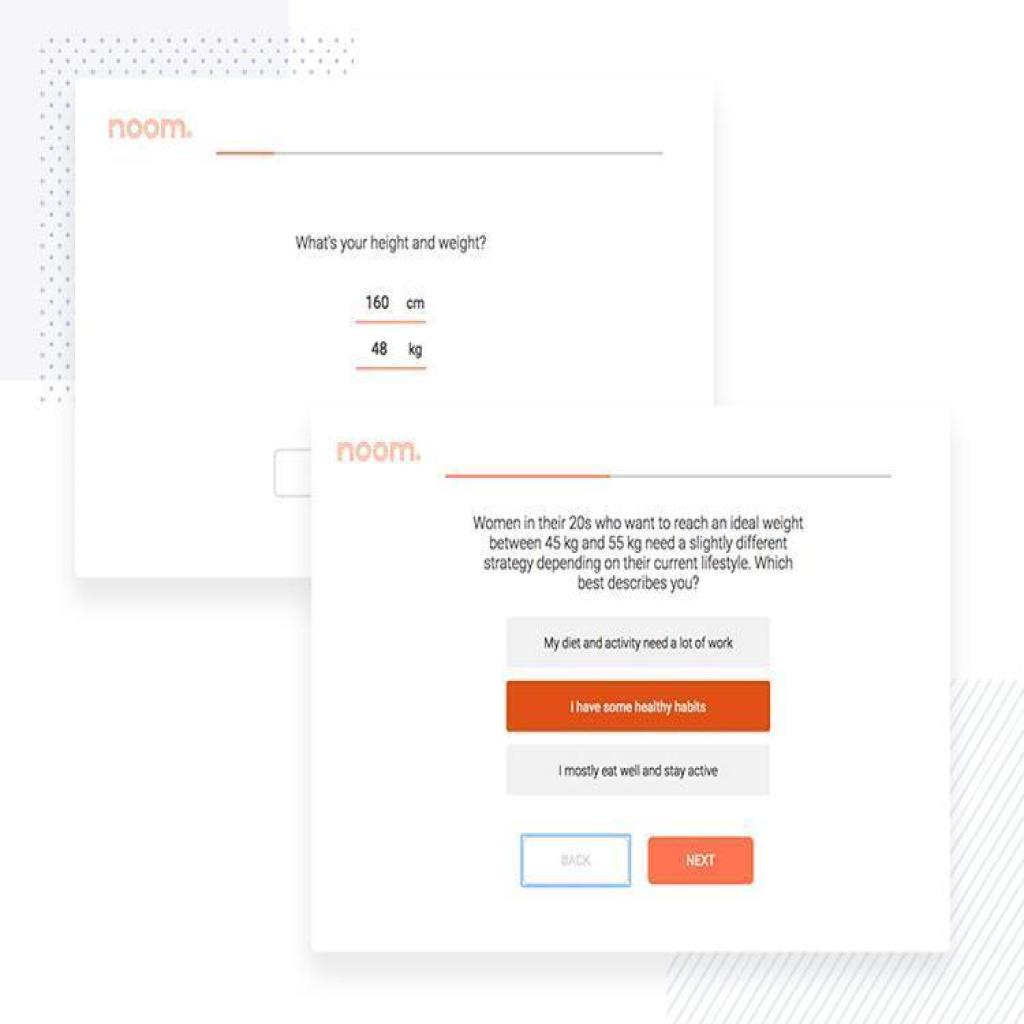button: (504, 740, 771, 798), (505, 614, 773, 669), (506, 678, 772, 732), (520, 833, 631, 887), (647, 834, 754, 886)
label: (470, 512, 804, 592), (292, 232, 488, 251)
